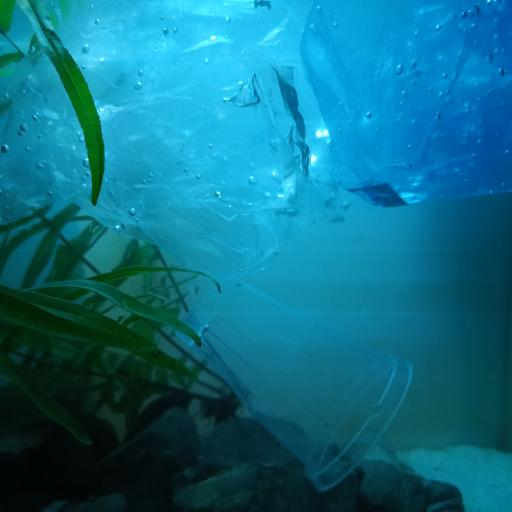plastic_bag: (5, 1, 307, 271), (297, 1, 512, 207)
plastic_cup: (180, 271, 416, 492)
